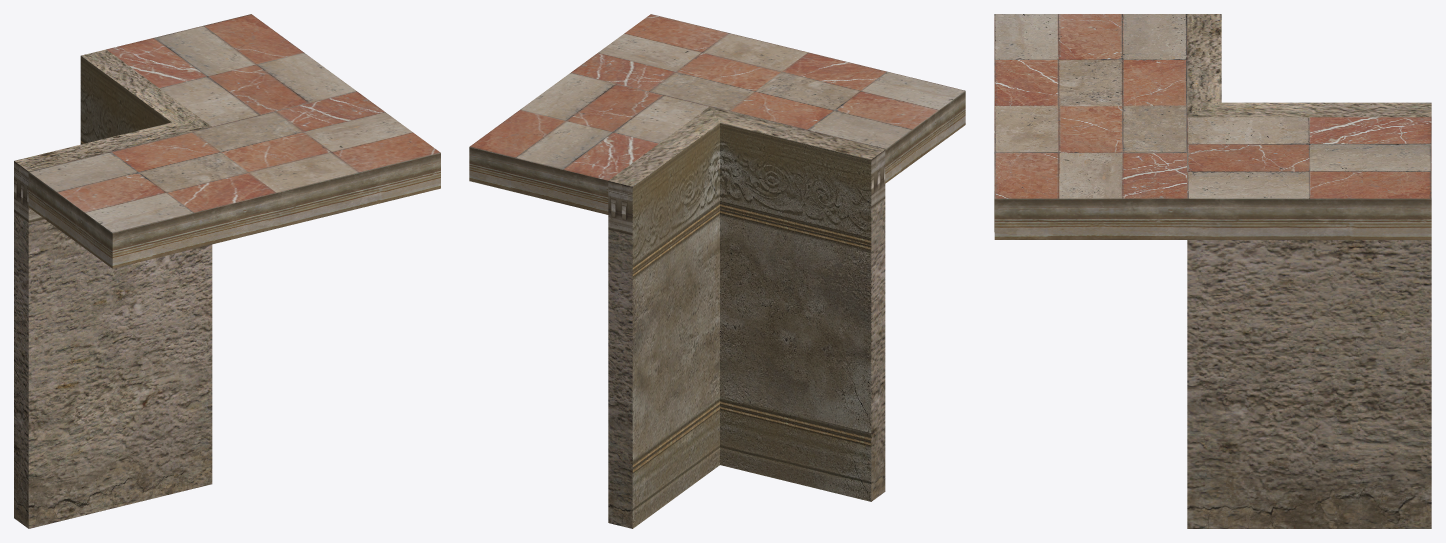
File: SH3D_Sparta_BalcWall4.obj
3 renders of one model, left to right at view 1: azimuth 30°, elevation 25°; view 2: azimuth 150°, elevation 25°; view 3: azimuth 270°, elevation 25°, orthographic. The views are drawn at different scales.
Visible parts, largest first — view 1: Base_ExtWall_Sparta0, Base_Floor2_Sparta0, Base_StepsRail_Sparta0, Base_IntWall_Sparta0; view 2: Base_IntWall_Sparta0, Base_Floor2_Sparta0, Base_ExtWall_Sparta0, Base_StepsRail_Sparta0; view 3: Base_ExtWall_Sparta0, Base_Floor2_Sparta0, Base_StepsRail_Sparta0.
Part boxes in pixels (x1,y1,x2,y2): Base_ExtWall_Sparta0: (14,49,212,528); Base_Floor2_Sparta0: (29,14,440,232); Base_StepsRail_Sparta0: (28,153,440,268); Base_IntWall_Sparta0: (80,56,171,144); Base_IntWall_Sparta0: (632,123,871,528); Base_Floor2_Sparta0: (469,14,965,180); Base_ExtWall_Sparta0: (608,106,885,528); Base_StepsRail_Sparta0: (469,91,965,214); Base_ExtWall_Sparta0: (1187,14,1431,528); Base_Floor2_Sparta0: (994,14,1431,198); Base_StepsRail_Sparta0: (994,191,1431,239).
Bounding box in the file's own units: 385 × 400 × 385.
5 materials, 5 textured.
